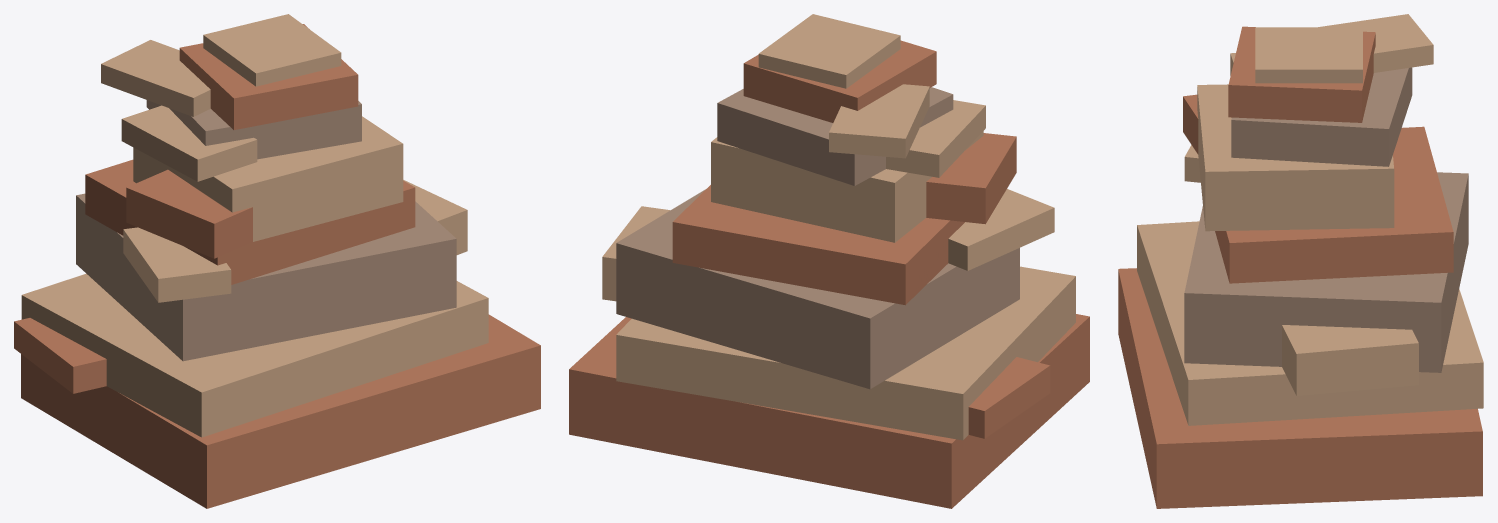
Rendered from Mesa.glb.
3 views of the same model, side by side, from view 1: azimuth 30°, elevation 25°; view 2: azimuth 150°, elevation 25°; view 3: azimuth 270°, elevation 25° (orthographic). The views are drawn at different scales.
Visible parts, largest first — view 1: Mesa; view 2: Mesa; view 3: Mesa.
Part boxes in pixels (x1,y1,x2,y2): Mesa: (14, 14, 540, 508); Mesa: (569, 14, 1089, 508); Mesa: (1118, 14, 1483, 508).
Size of the model in its own units: 15.82 by 13.5 by 12.28.
